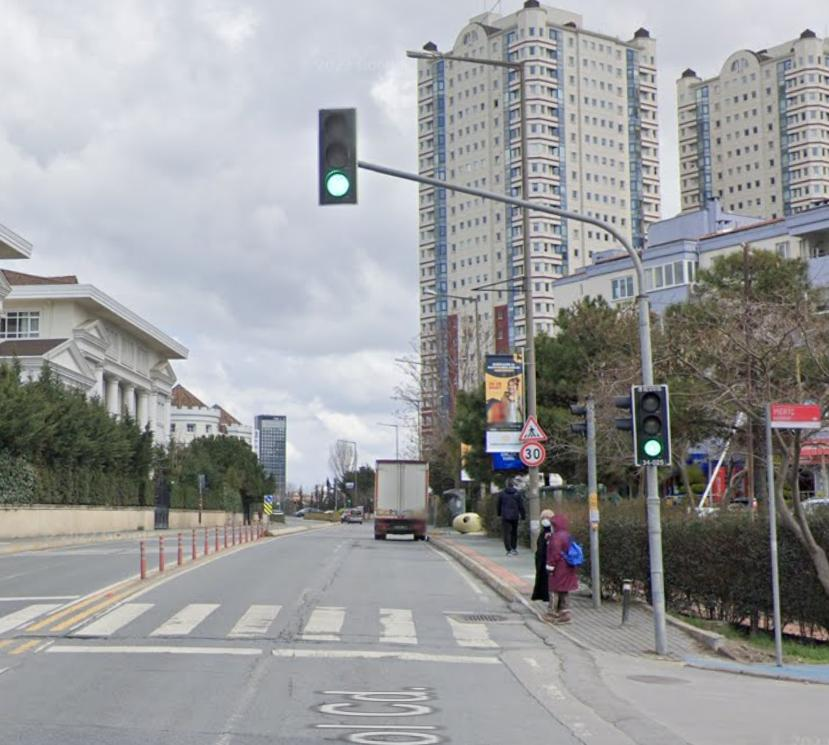greenlight: (319, 105, 357, 206), (633, 381, 672, 467)
